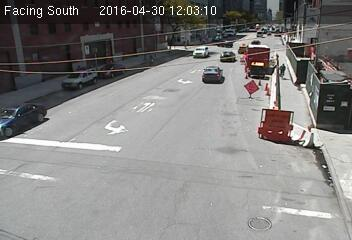neg: (212, 126, 227, 145), (293, 12, 306, 29), (176, 76, 189, 92), (111, 99, 121, 113), (114, 126, 120, 134)
pos: (276, 63, 288, 78), (183, 41, 188, 49)
